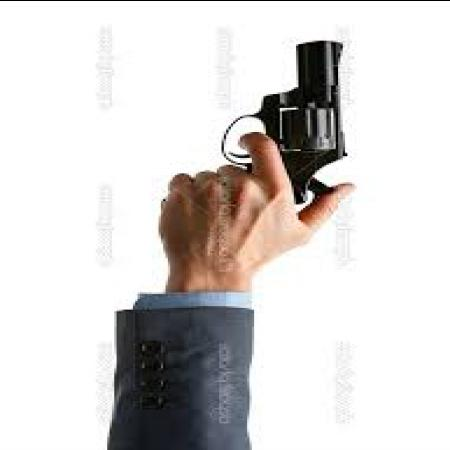Pistol: (222, 40, 350, 212)
